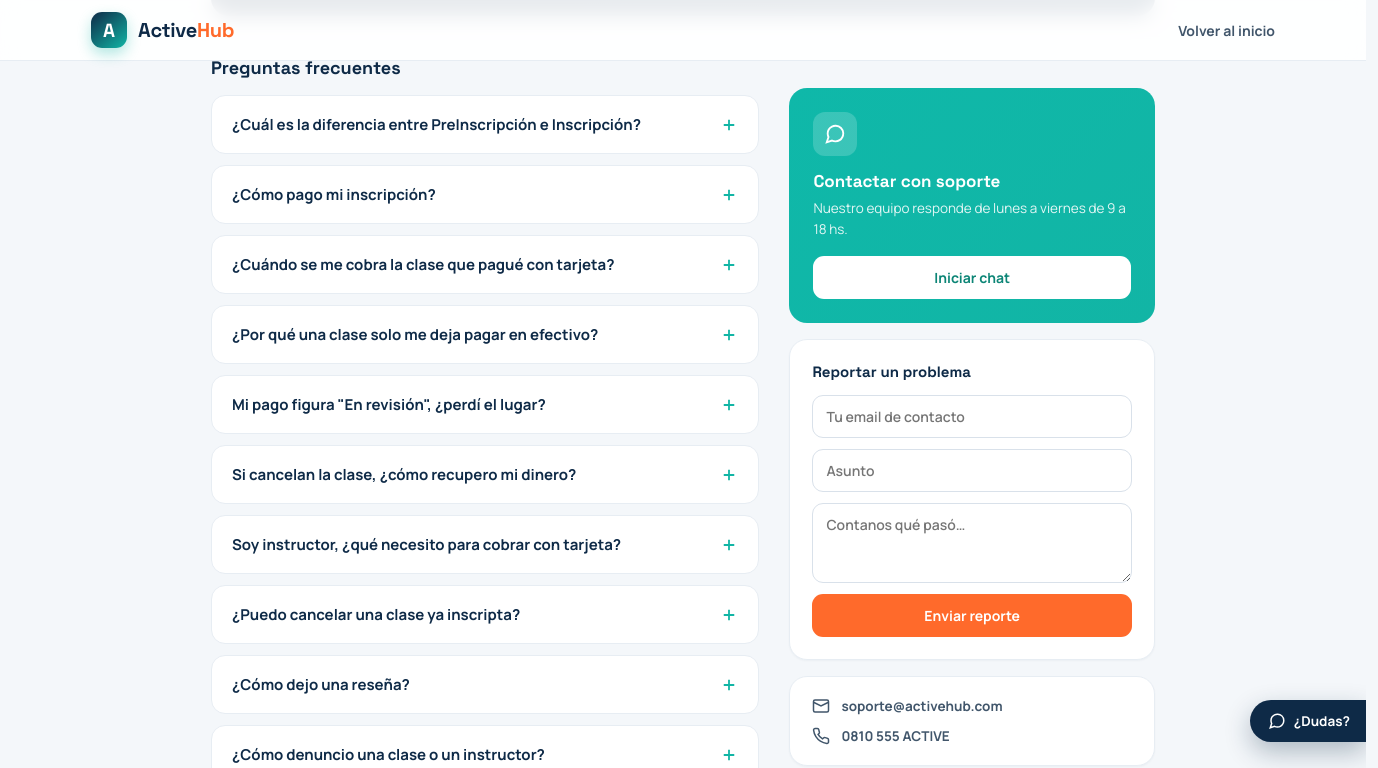
reportar un problema › ante un error inesperado muestra un mensaje propio
(page scrolled)
Type "  ana@test.com  " into the field with placeholder "Tu email de contacto".
click(972, 416); type("  ana@test.com  ")  # box [812,395,1132,438]
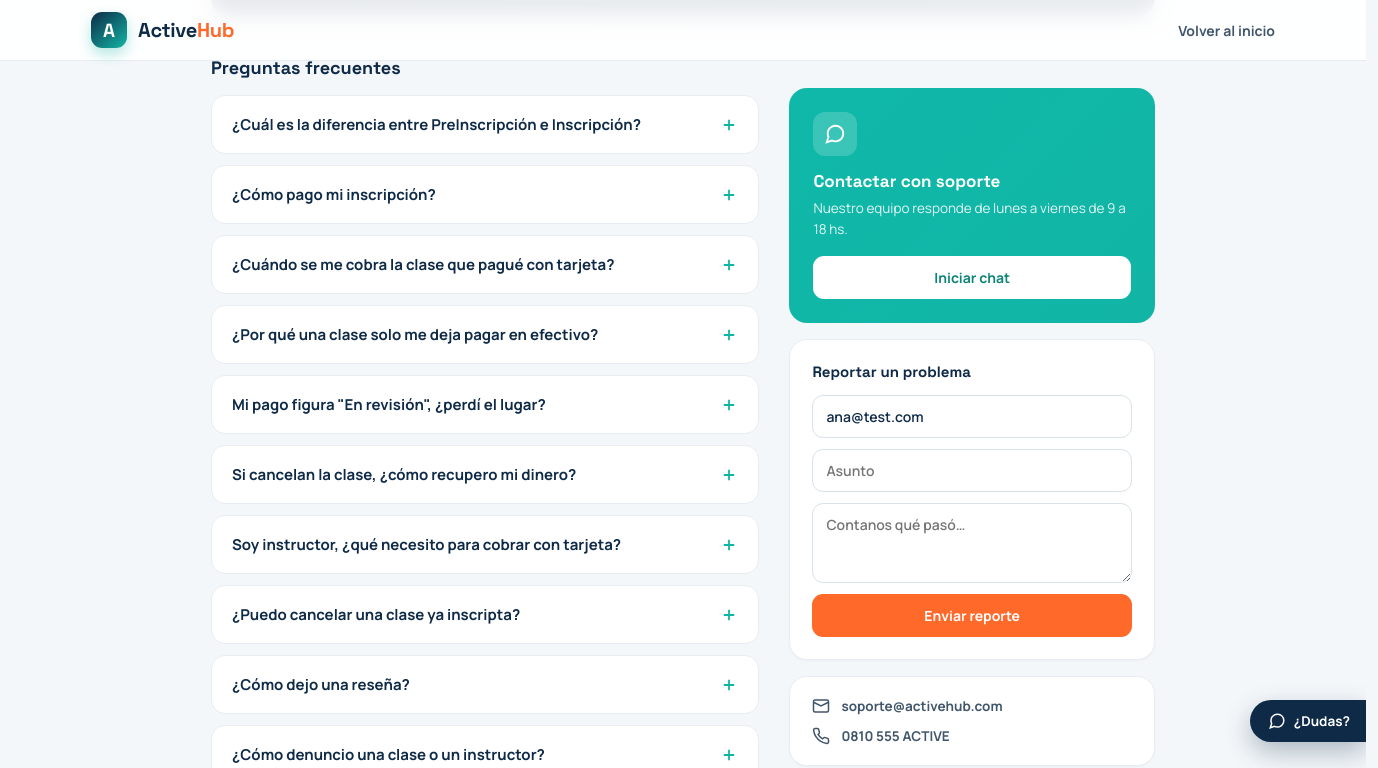
Type "  No puedo entrar  " into the field with placeholder "Asunto".
click(972, 470); type("  No puedo entrar  ")  # box [812,449,1132,492]
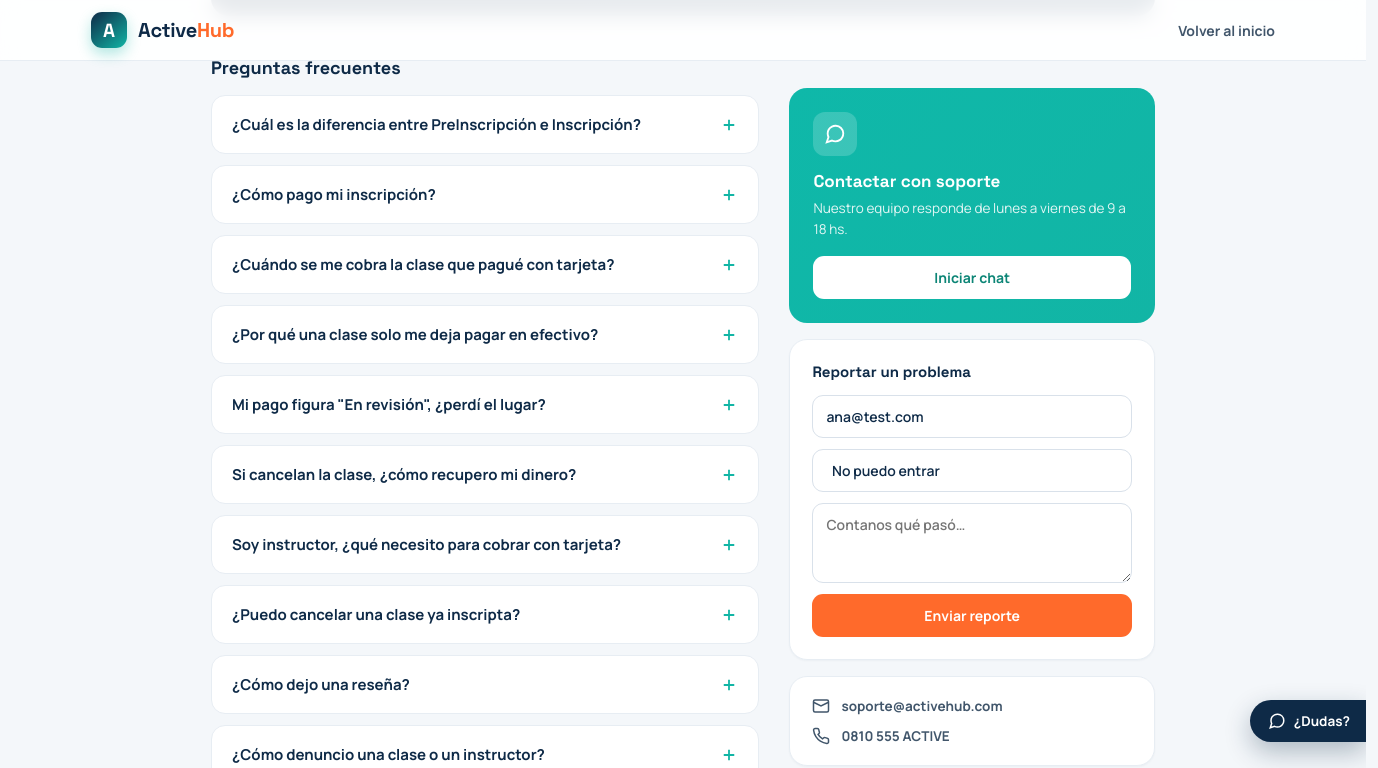
Type "  El código no llega  " into the text box with placeholder "Contanos qué pasó…".
click(972, 543); type("  El código no llega  ")  # box [812,503,1132,583]
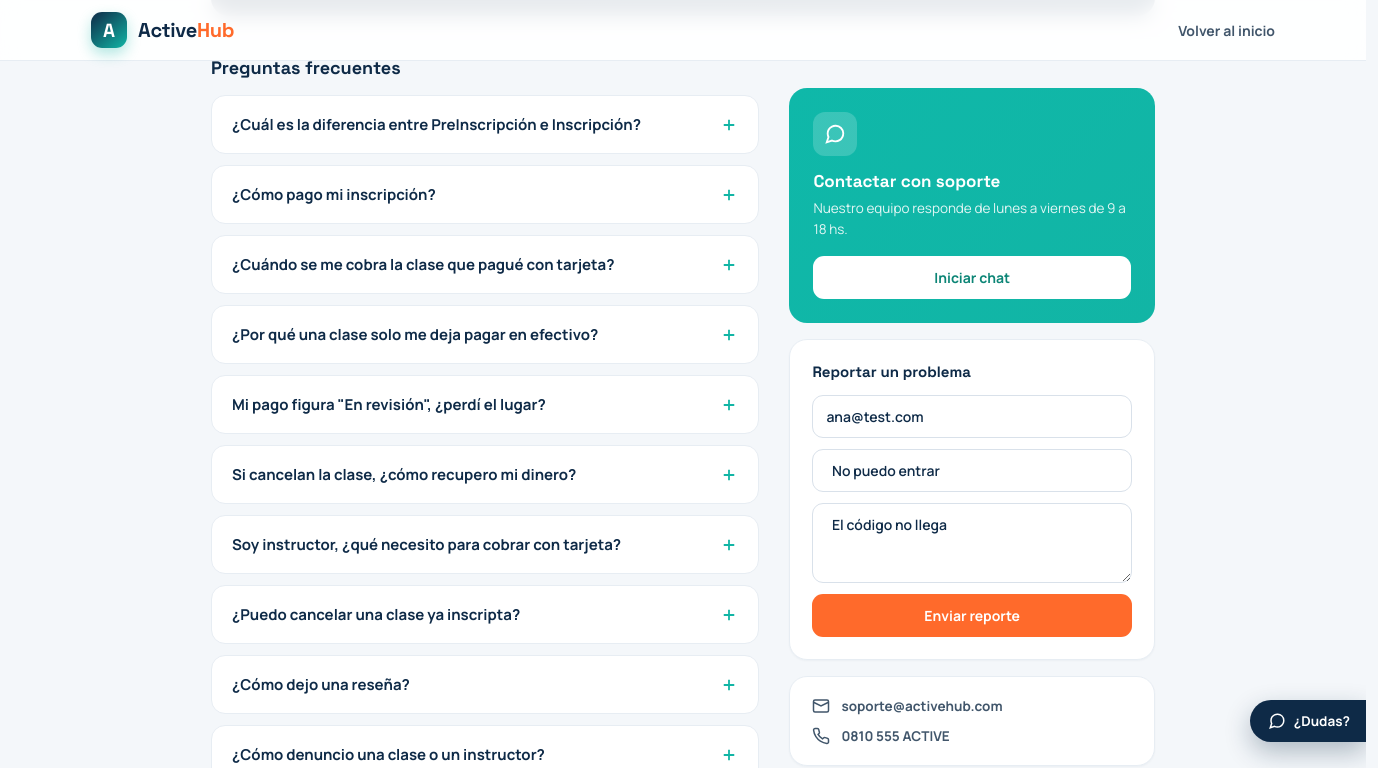
Click the button "Enviar reporte".
click(972, 615)  # box [812,594,1132,637]
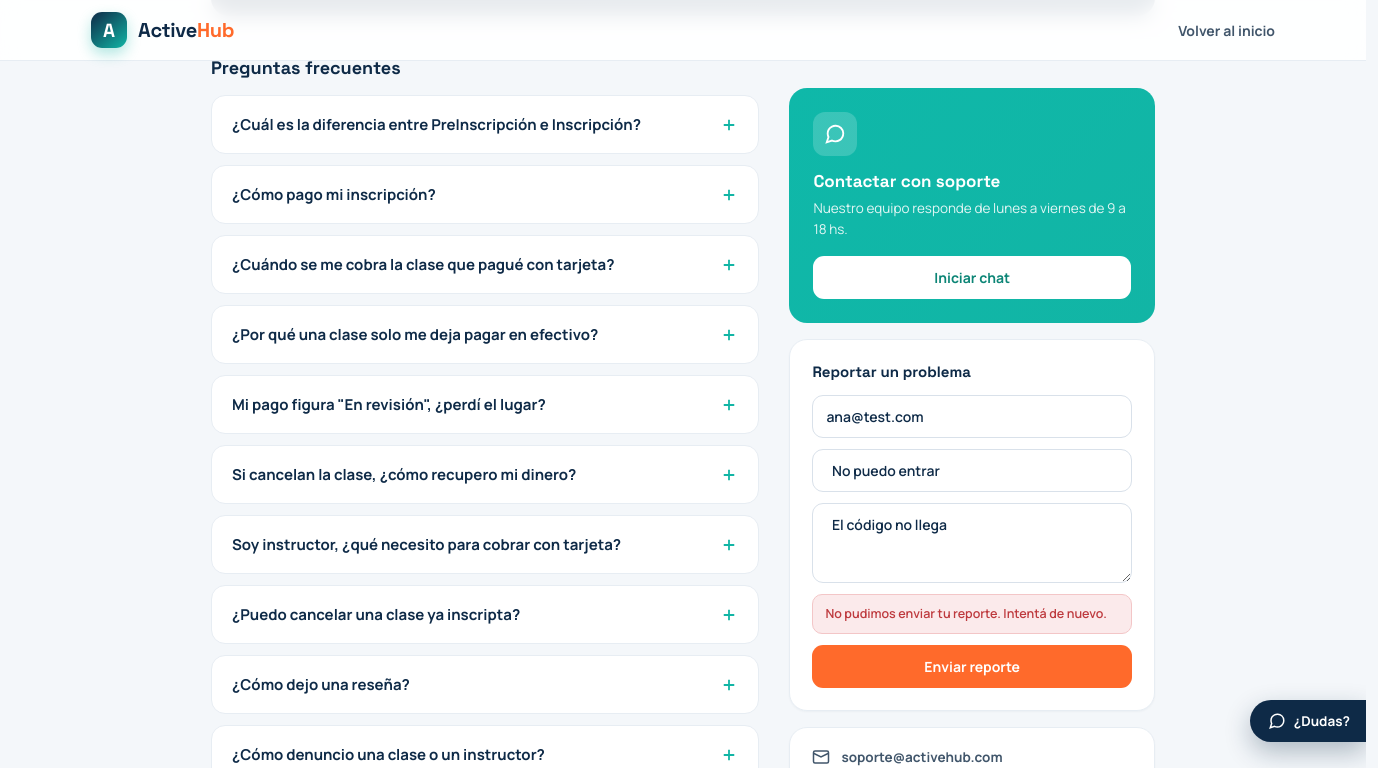
expect the message reads "No pudimos enviar tu reporte. Intentá de nuevo.": met, box [825,605,1107,622]
